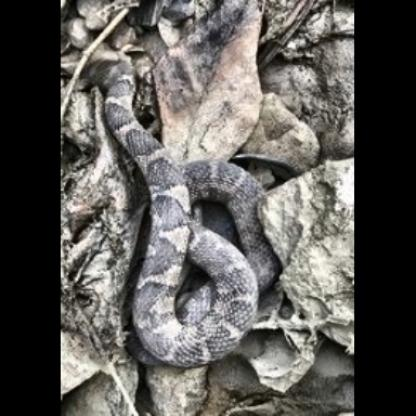Snake: (100, 55, 290, 370)
